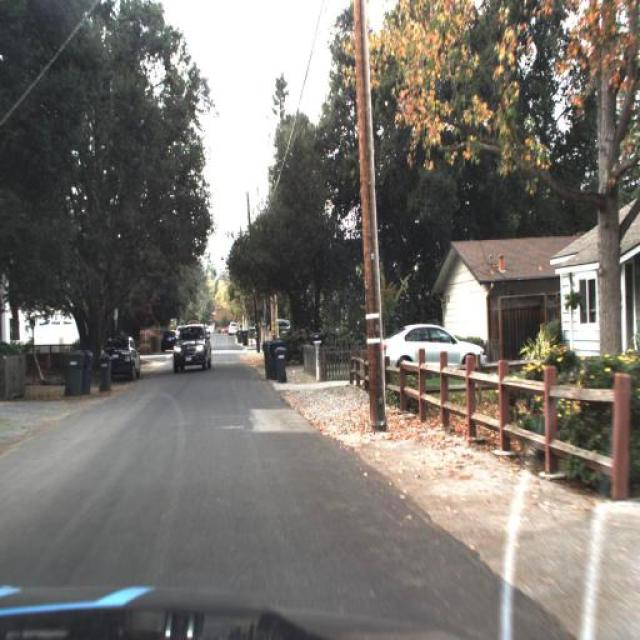car: (378, 322, 488, 374), (98, 328, 142, 383), (172, 324, 212, 371), (265, 316, 293, 338), (223, 319, 241, 336)
